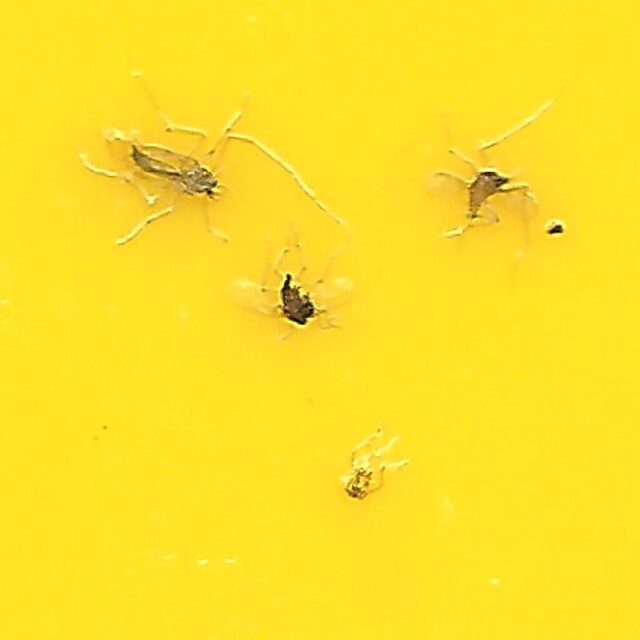Brachycera: (272, 269, 314, 330)
Nematocera: (130, 135, 223, 203), (467, 162, 510, 226), (343, 456, 382, 505)
